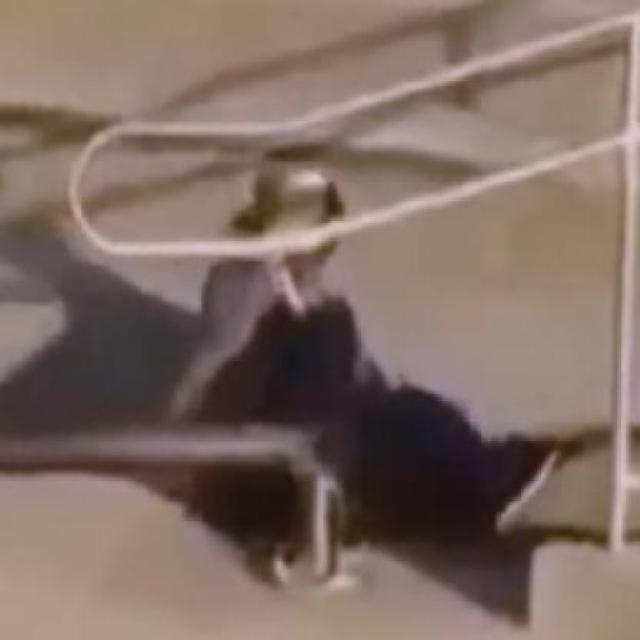fall: (201, 171, 561, 544)
